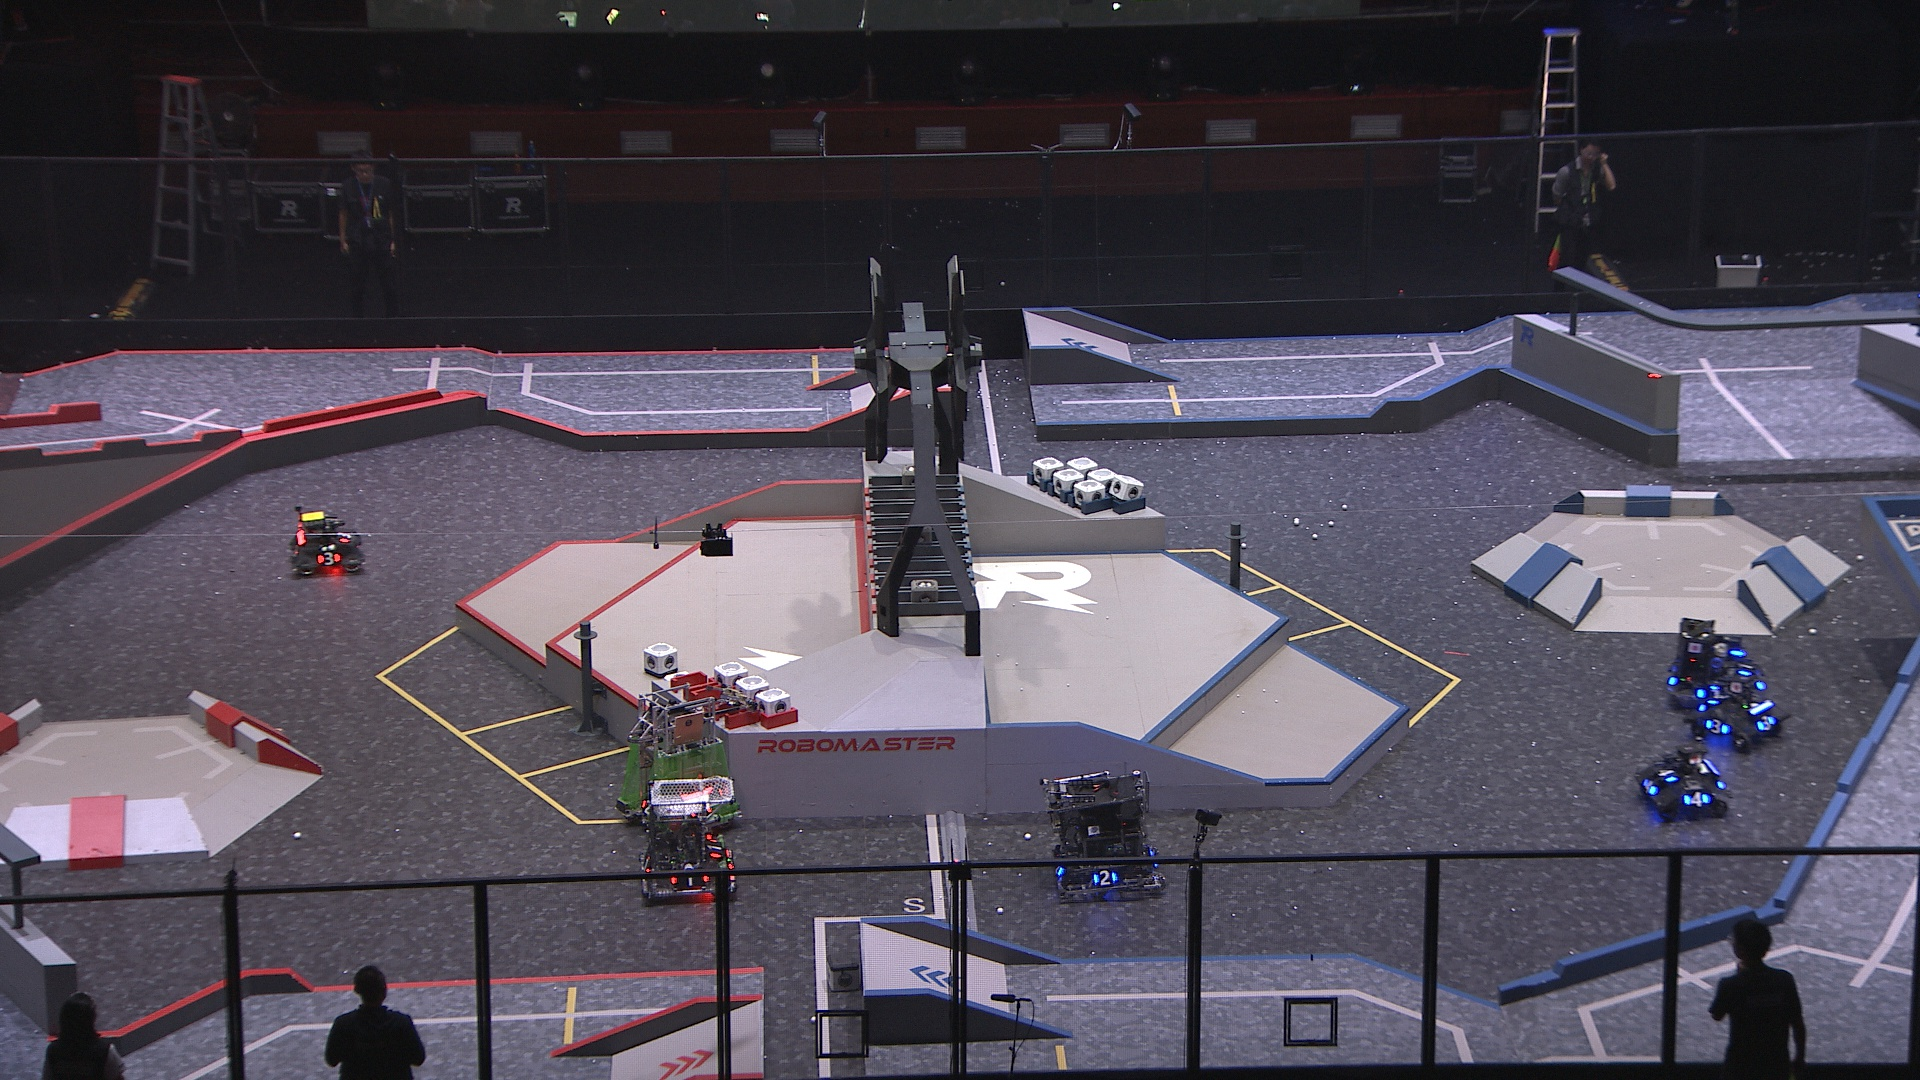armor: (669, 873, 711, 889), (1704, 716, 1731, 736), (705, 837, 727, 862), (1092, 869, 1120, 887), (1684, 790, 1712, 808), (1735, 659, 1760, 679), (315, 550, 343, 567), (1756, 713, 1779, 733), (1656, 765, 1679, 785), (1642, 778, 1660, 798), (640, 796, 655, 818), (642, 851, 655, 873), (334, 531, 353, 545)
car: (615, 684, 740, 831), (1040, 766, 1164, 898), (637, 777, 742, 902), (1665, 622, 1764, 711), (1685, 674, 1795, 752), (1636, 741, 1733, 825), (286, 510, 367, 578)
